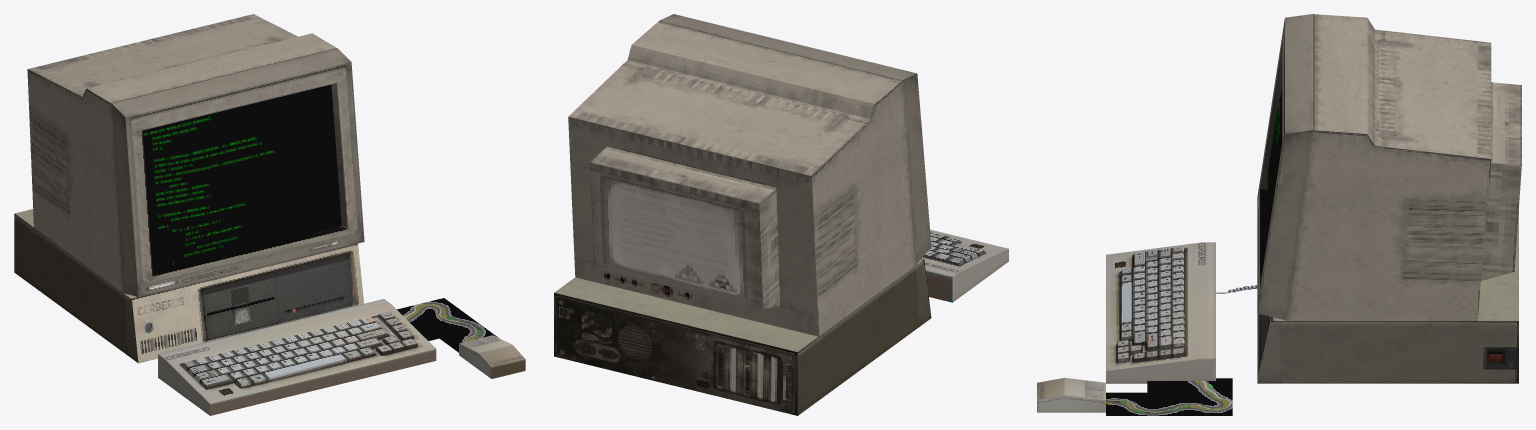
Rendered from oComputer.gltf.
3 renders of one model, left to right at view 1: azimuth 30°, elevation 25°; view 2: azimuth 150°, elevation 25°; view 3: azimuth 270°, elevation 25°, orthographic. The views are drawn at different scales.
Parts seen in each view (by area): view 1: Cube.003; view 2: Cube.003; view 3: Cube.003.
Boxes of the visible parts, x1,y1,x2,y2 form: Cube.003: (14, 14, 525, 415); Cube.003: (554, 14, 1008, 415); Cube.003: (1037, 14, 1521, 415).
Size of the model in its own units: 2.6 by 2.03 by 3.52.
5 materials, 5 textured.
